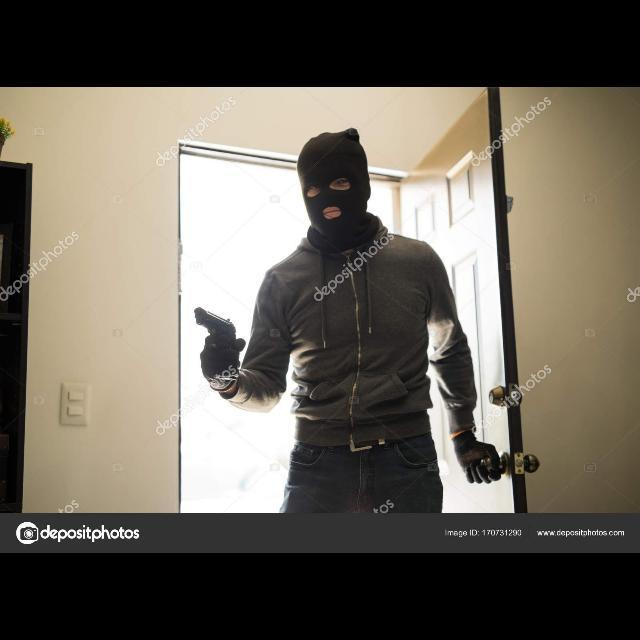criminal: (195, 129, 500, 513)
weapon: (196, 306, 240, 372)
